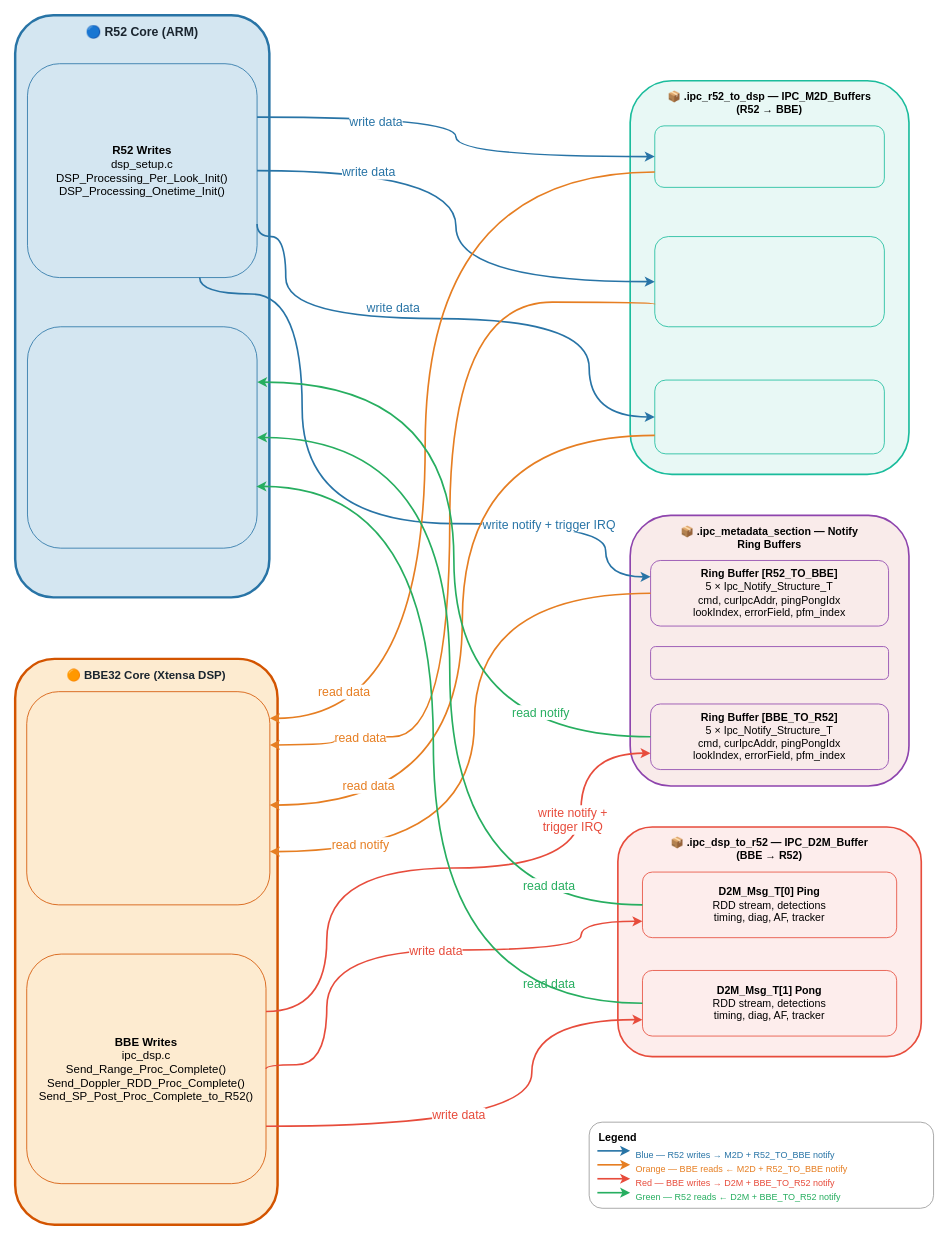
The diagram is 948 pixels wide and 1240 high, and some of its shapes have lost their labels. Here are the shapes that lost their labels. From the top down, the centre of each, then its label:
At (x=769, y=156): "M2D_One_Time_Msg_T SMC cal ptr, USC cal ptr radar position".
At (x=769, y=281): "M2D_Msg_T[0] Ping look info, XCP, vehicle alignment, offline flag".
At (x=769, y=416): "M2D_Msg_T[1] Pong look info, XCP, vehicle alignment, offline flag".
At (x=142, y=437): "R52 Reads ipc_mss.c Update_R52_IPC_Notify()".
At (x=769, y=662): "ReadIndx[2], WriteIndx[2]".
At (x=148, y=798): "BBE Reads ipc_dsp.c Update_DSP_IPC_Notify() SP2DSP_LVL1_Handler()".
